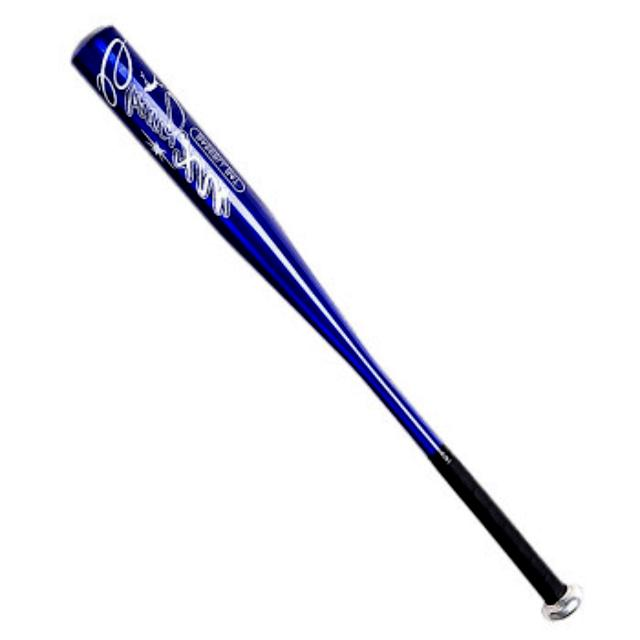baseball bat: (52, 10, 602, 624)
